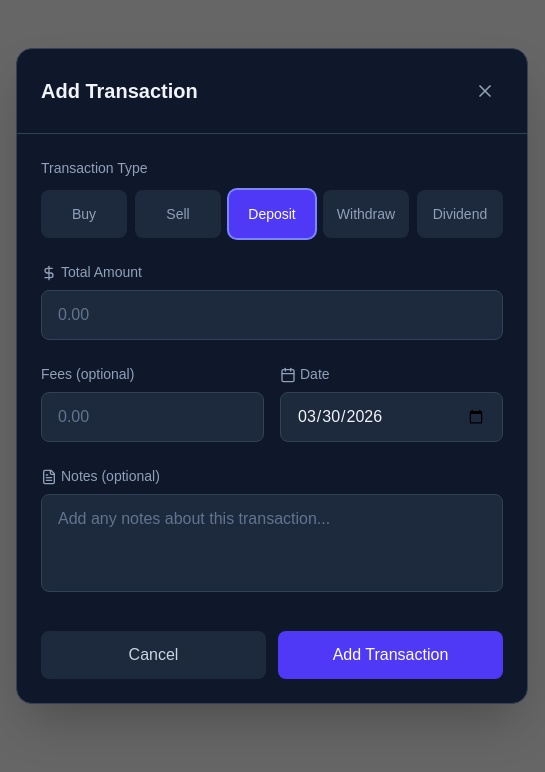
Test case: TransactionModal › Form Submission › should show error on failed submission
Type "1000" into the number field with placeholder "0.00" below "Total Amount" at x=272, y=315, box [41,290,503,340]
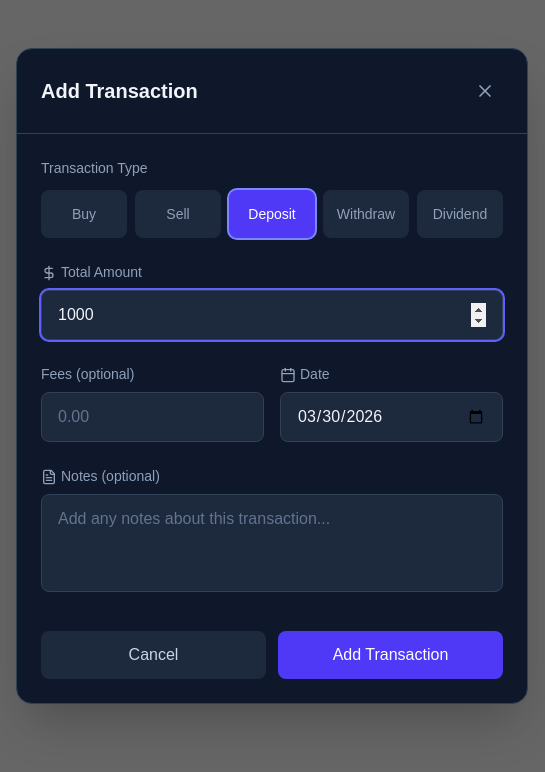
Find submit button by role
Click the button "Add Transaction" at x=390, y=655, box [278,631,503,679]
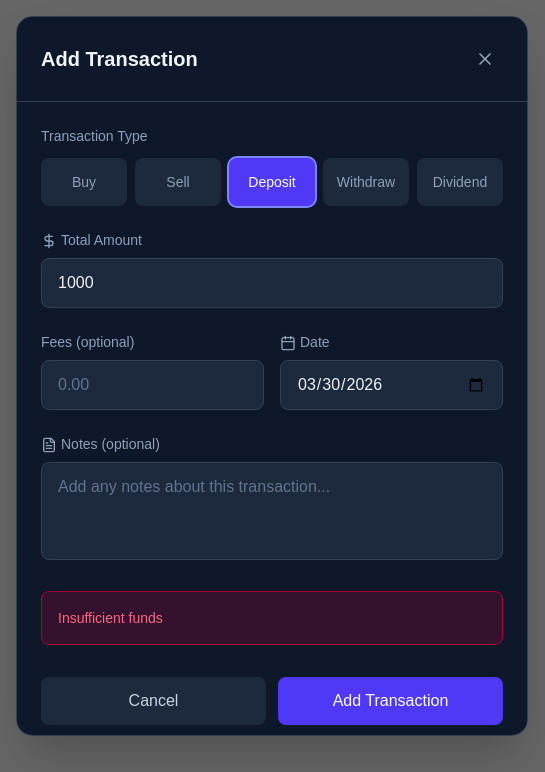
Now the text "Insufficient funds" is shown, box [58,610,163,626]
